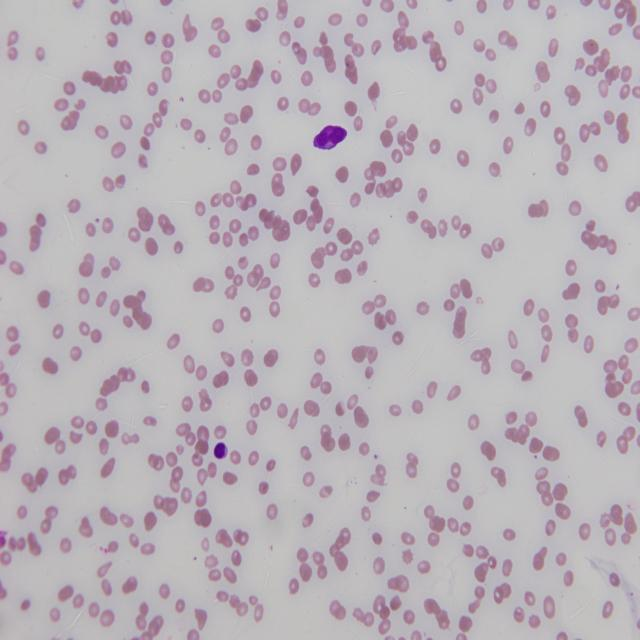cell: (314, 126, 346, 150)
